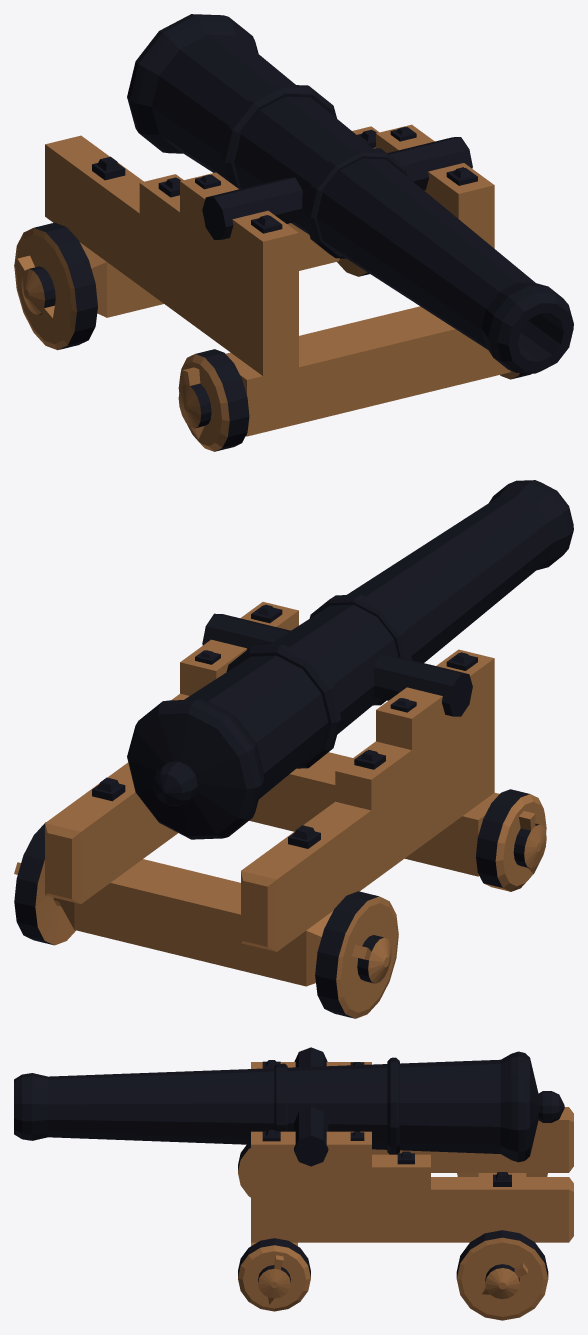
File: cannon.fbx
3 renders of one model, top to bottom at view 1: azimuth 30°, elevation 25°; view 2: azimuth 150°, elevation 25°; view 3: azimuth 270°, elevation 25°, orthographic. The views are drawn at different scales.
Visible parts, largest first — view 1: Stand, Cylinder; view 2: Stand, Cylinder; view 3: Stand, Cylinder.
Part boxes in pixels (x1,y1,x2,y2): Stand: (14,124,531,451); Cylinder: (127,14,573,373); Stand: (14,602,546,1018); Cylinder: (127,480,573,839); Stand: (238,1060,573,1320); Cylinder: (14,1047,564,1166).
Bounding box in the file's own units: 124 × 92.97 × 228.
Materials: 1 (1 with a texture image).
